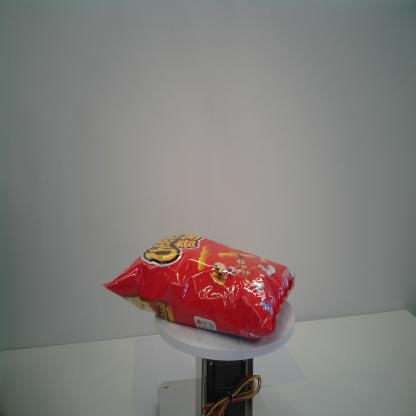Puffed Food: (100, 234, 297, 340)
